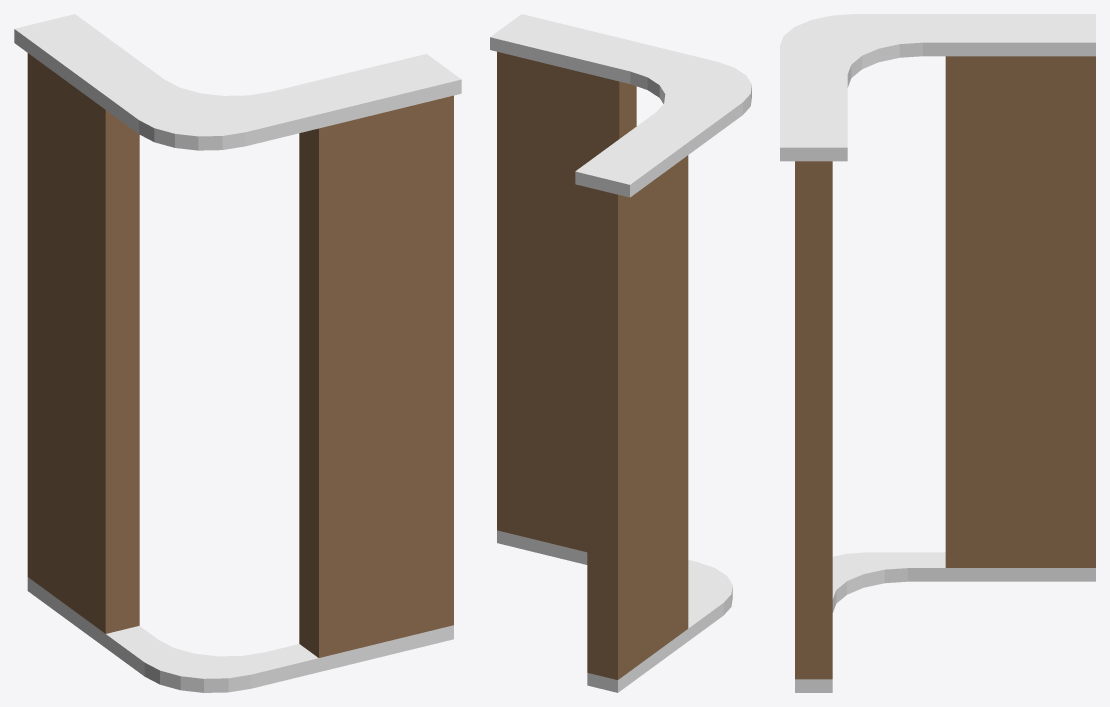
File: SM_4x4m_HighWindow_CurvelCorner.fbx
3 views of the same model, side by side, from view 1: azimuth 30°, elevation 25°; view 2: azimuth 150°, elevation 25°; view 3: azimuth 270°, elevation 25° (orthographic). The views are drawn at different scales.
Visible parts, largest first — view 1: SM_4x4m_HighWindow_CurveCorner.001; view 2: SM_4x4m_HighWindow_CurveCorner.001; view 3: SM_4x4m_HighWindow_CurveCorner.001.
Boxes of the visible parts, left/top/right/bottom form: SM_4x4m_HighWindow_CurveCorner.001: left=14, top=14, right=461, bottom=692; SM_4x4m_HighWindow_CurveCorner.001: left=490, top=14, right=751, bottom=692; SM_4x4m_HighWindow_CurveCorner.001: left=780, top=14, right=1095, bottom=692.
Bounding box in the file's own units: 210 × 210 × 400.
